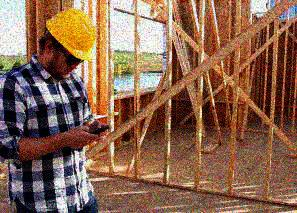helmet: (39, 8, 96, 79)
